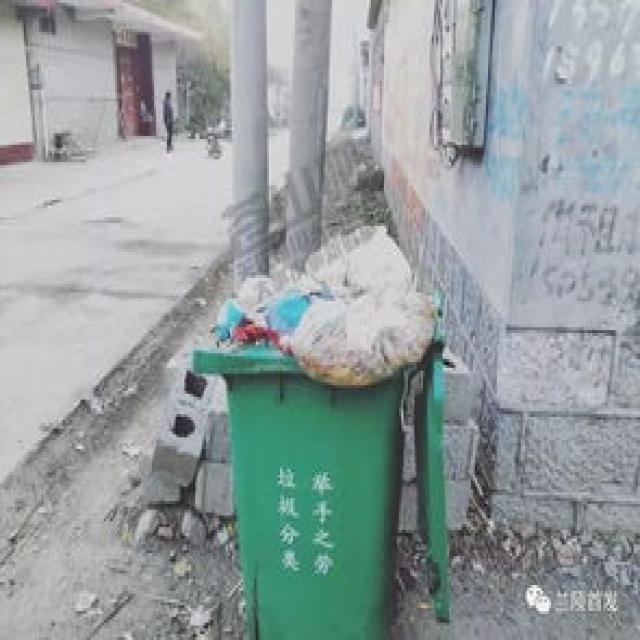overflow: (189, 220, 447, 637)
